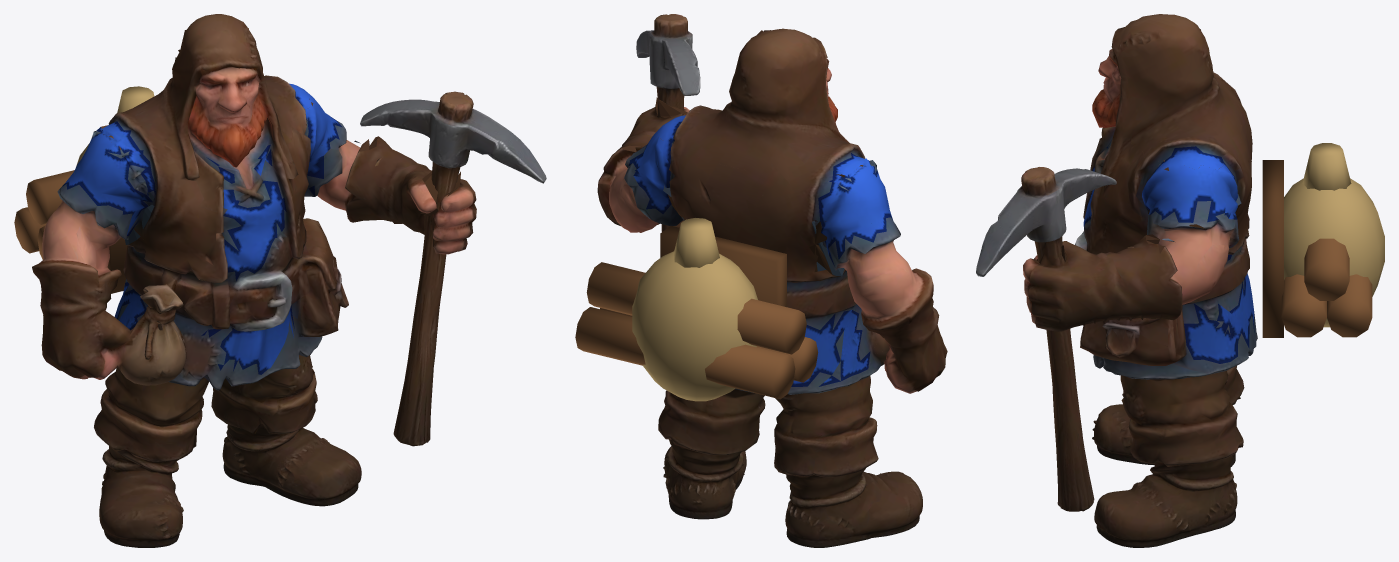
File: villager_v2.glb
3 renders of one model, left to right at view 1: azimuth 30°, elevation 25°; view 2: azimuth 150°, elevation 25°; view 3: azimuth 270°, elevation 25°, orthographic.
Visible parts, largest first — view 1: Torso, ArmL, Head, LegL, ToolGroup, LegR, ArmR, WoodBundle, GoldSack, PackFrame; view 2: Torso, Head, LegL, GoldSack, ArmL, WoodBundle, LegR, ArmR, ToolGroup, PackFrame; view 3: Torso, LegR, Head, ArmR, ToolGroup, GoldSack, WoodBundle, PackFrame, LegL.
Boxes of the visible parts, bbox=[...] form: Torso: bbox=[74, 90, 348, 390]; ArmL: bbox=[32, 171, 186, 385]; Head: bbox=[101, 14, 311, 158]; LegL: bbox=[94, 367, 208, 547]; ToolGroup: bbox=[354, 91, 546, 446]; LegR: bbox=[211, 355, 361, 506]; ArmR: bbox=[304, 123, 476, 254]; WoodBundle: bbox=[14, 170, 74, 259]; GoldSack: bbox=[76, 86, 154, 166]; PackFrame: bbox=[107, 237, 127, 293]; Torso: bbox=[629, 125, 889, 396]; Head: bbox=[659, 28, 873, 183]; LegL: bbox=[774, 376, 922, 547]; GoldSack: bbox=[632, 218, 757, 401]; ArmL: bbox=[810, 210, 947, 393]; WoodBundle: bbox=[575, 262, 818, 399]; LegR: bbox=[658, 389, 765, 519]; ArmR: bbox=[597, 97, 689, 232]; ToolGroup: bbox=[636, 14, 700, 231]; PackFrame: bbox=[660, 226, 786, 307]; Torso: bbox=[1075, 90, 1257, 386]; LegR: bbox=[1094, 371, 1243, 547]; Head: bbox=[1092, 14, 1241, 170]; ArmR: bbox=[1023, 198, 1241, 331]; ToolGroup: bbox=[976, 167, 1174, 511]; GoldSack: bbox=[1284, 143, 1384, 327]; WoodBundle: bbox=[1281, 238, 1372, 337]; PackFrame: bbox=[1262, 160, 1283, 337]; LegL: bbox=[1092, 366, 1244, 466].
Size of the model in its own units: 1.71 by 1.95 by 1.53.
Materials: 5 (2 with a texture image).
